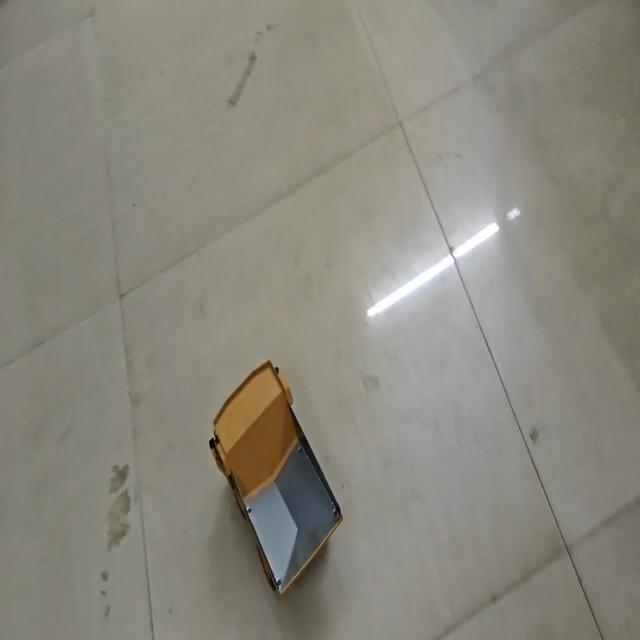dump_truck: (194, 349, 350, 595)
